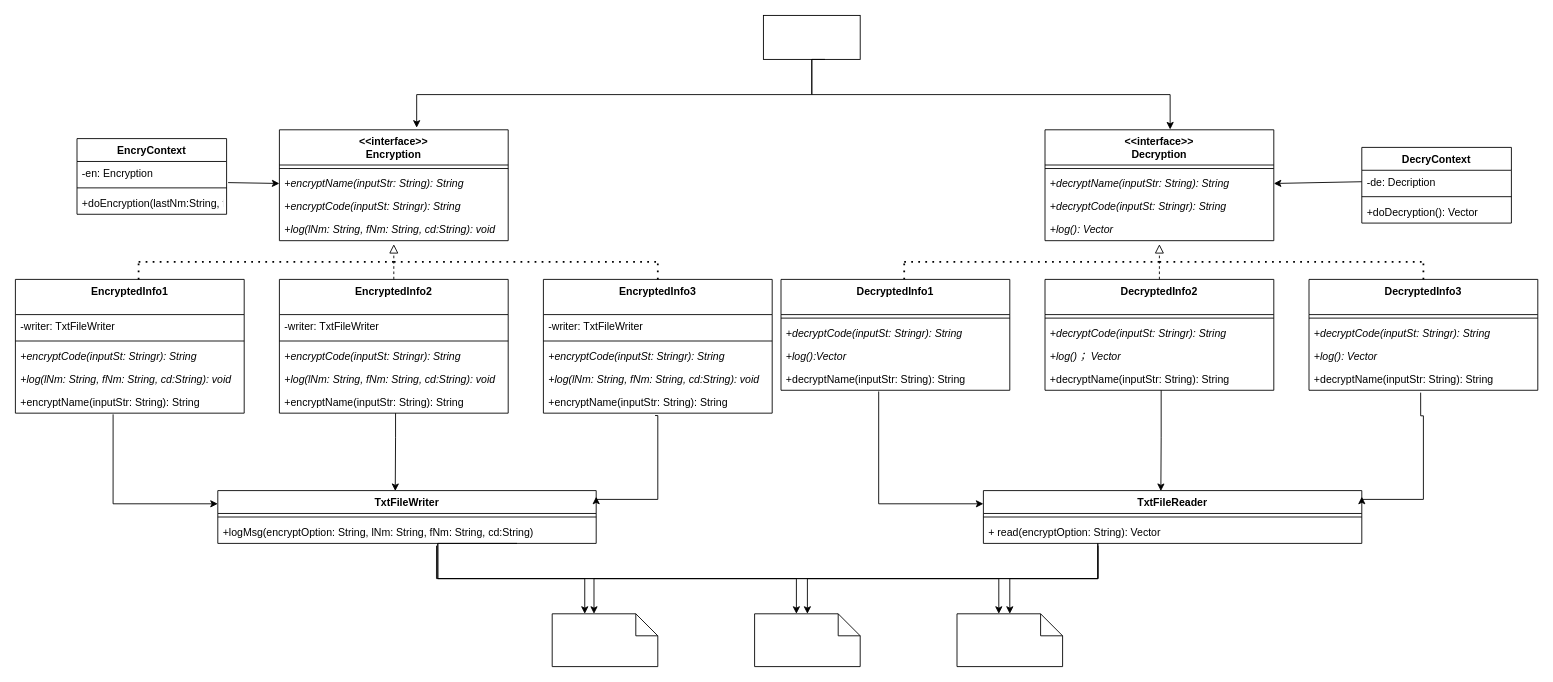
Image size: 1553x682. Some labels were removed from this diagram. Each missing label, with the centre of its shape:
"Caesar.txt" belongs at point 1009,640.
"ClientGUI" belongs at point 811,37.
"Folding.txt" belongs at point 604,640.
"Group-swap.txt" belongs at point 807,640.
